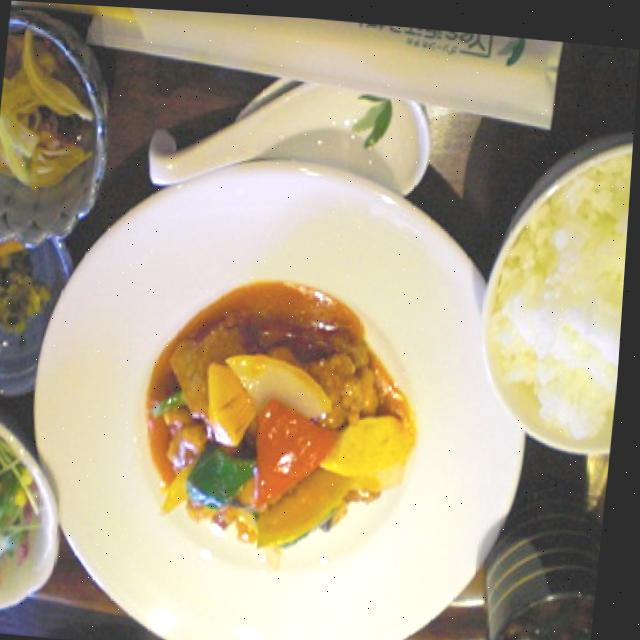猪肉菜式: (136, 271, 438, 575)
米饭主食: (471, 117, 635, 465)
蔬菜料理: (0, 404, 87, 633)
